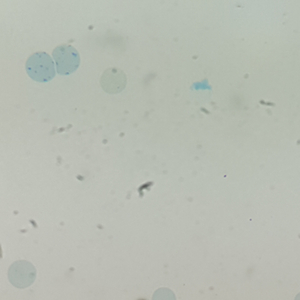aggregate reticulocyte: (52, 43, 81, 77)
erythrocyte: (6, 259, 37, 291)
punctate reticulocyte: (24, 51, 56, 84), (99, 66, 128, 95)
